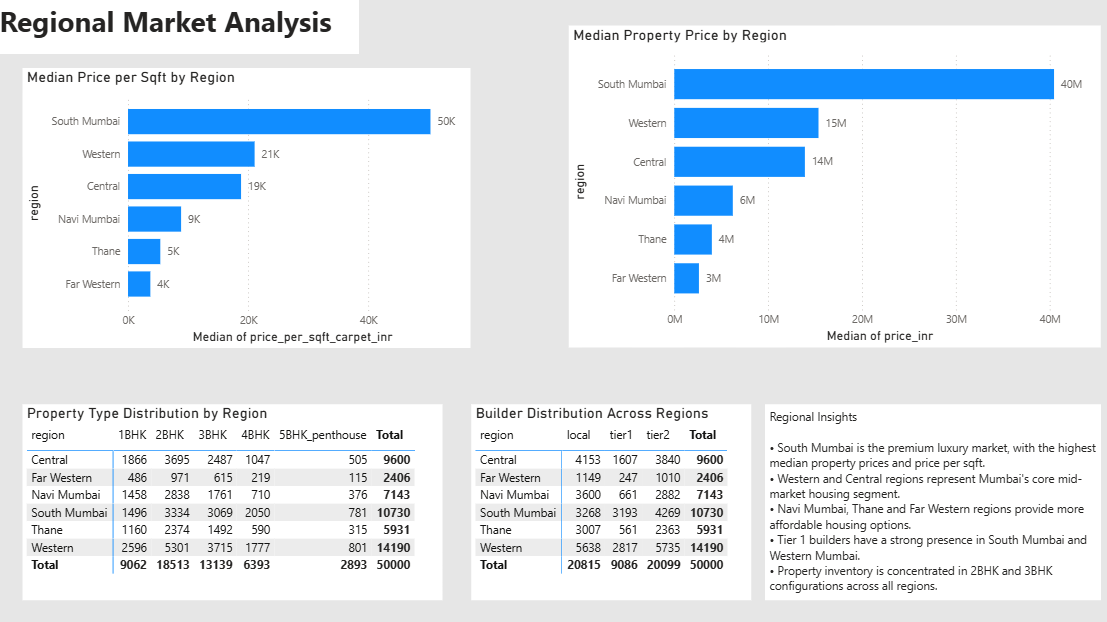

This screenshot's page, from the dashboard's own definition file:
{"tool":"powerbi","page":{"name":"Regional Market Analysis","canvas":[1280,720],"ordinal":1},"visuals":[{"type":"clusteredBarChart","title":"Median Property Price by Region","fields":{"Category":["mumbai_real_estate_dashboard.region"],"Y":["Median(mumbai_real_estate_dashboard.price_inr)"]},"box":[656,32,608,368],"z":0},{"type":"clusteredBarChart","title":"Median Price per Sqft by Region","fields":{"Category":["mumbai_real_estate_dashboard.region"],"Y":["Median(mumbai_real_estate_dashboard.price_per_sqft_carpet_inr)"]},"box":[32,80,512,320],"z":1},{"type":"pivotTable","title":"Builder Distribution Across Regions","fields":{"Rows":["mumbai_real_estate_dashboard.region"],"Columns":["mumbai_real_estate_dashboard.builder_tier"],"Values":["Count(mumbai_real_estate_dashboard.id)"]},"box":[544,464,320,224],"z":2},{"type":"pivotTable","title":"Property Type Distribution by Region","fields":{"Rows":["mumbai_real_estate_dashboard.region"],"Columns":["mumbai_real_estate_dashboard.property_type"],"Values":["Count(mumbai_real_estate_dashboard.id)"]},"box":[32,464,480,224],"z":3},{"type":"textbox","box":[880,464,384,224],"z":4},{"type":"textbox","box":[0,0,416,64],"z":5}]}

Visuals, with their boxes in screenshot pixels (x1, y1, x2, y2), scaled from the page's 1280x720 canvas onto the 1107x622 screenshot:
"Median Property Price by Region" clusteredBarChart: x1=567 y1=28 x2=1093 y2=346
"Median Price per Sqft by Region" clusteredBarChart: x1=28 y1=69 x2=470 y2=346
"Builder Distribution Across Regions" pivotTable: x1=470 y1=401 x2=747 y2=594
"Property Type Distribution by Region" pivotTable: x1=28 y1=401 x2=443 y2=594
textbox: x1=761 y1=401 x2=1093 y2=594
textbox: x1=0 y1=0 x2=360 y2=55
